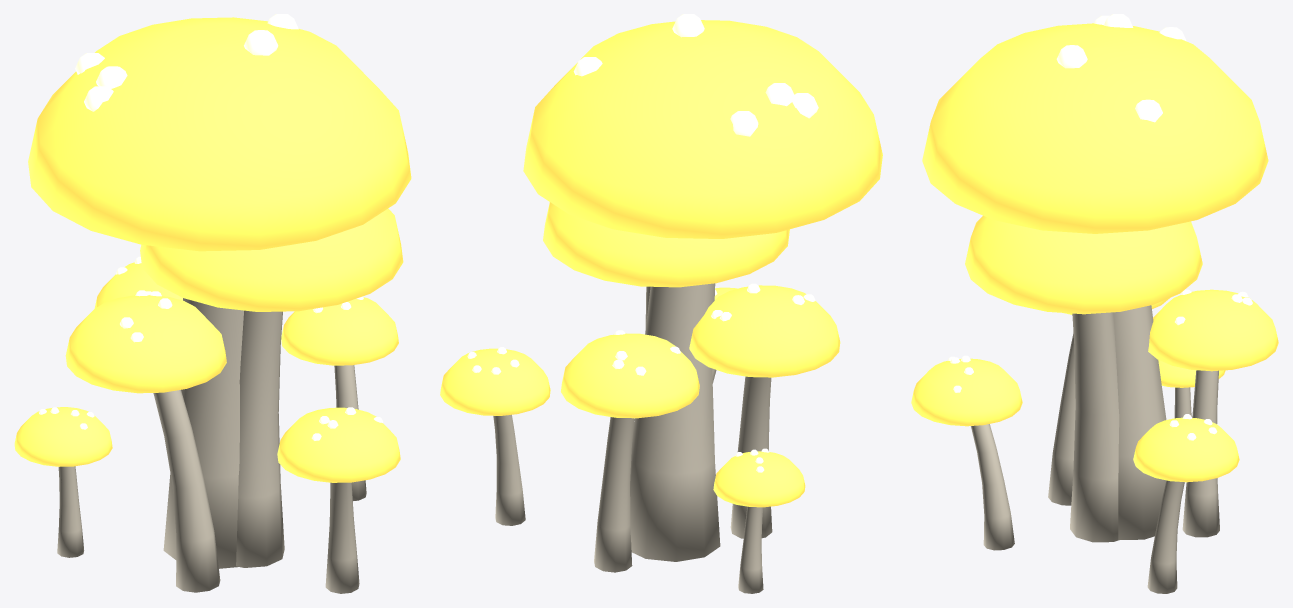
The model's file is nest-glowshroomb.glb.
3 views of the same model, side by side, from view 1: azimuth 30°, elevation 25°; view 2: azimuth 150°, elevation 25°; view 3: azimuth 270°, elevation 25° (orthographic). The views are drawn at different scales.
Parts seen in each view (by area): view 1: GlowShroomB__Caps, GlowShroomB__Stems, GlowShroomB__Spots; view 2: GlowShroomB__Caps, GlowShroomB__Stems, GlowShroomB__Spots; view 3: GlowShroomB__Caps, GlowShroomB__Stems, GlowShroomB__Spots.
Part boxes in pixels (x1,y1,x2,y2): GlowShroomB__Caps: (14, 17, 411, 482); GlowShroomB__Stems: (57, 298, 366, 593); GlowShroomB__Spots: (39, 14, 383, 440); GlowShroomB__Caps: (440, 20, 882, 507); GlowShroomB__Stems: (493, 283, 772, 593); GlowShroomB__Spots: (467, 14, 818, 472); GlowShroomB__Caps: (911, 23, 1278, 482); GlowShroomB__Stems: (971, 305, 1219, 593); GlowShroomB__Spots: (948, 14, 1252, 440).
Bounding box in the file's own units: 6.86 × 9.04 × 6.24.
